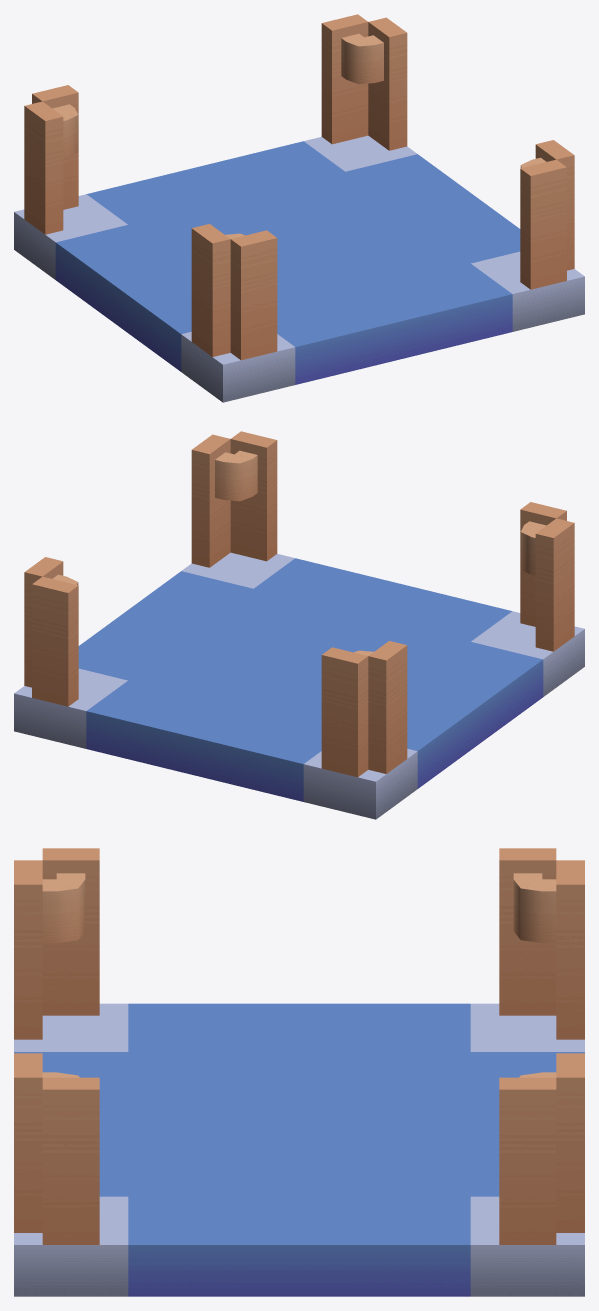
The model's file is queue-crossing.glb.
3 views of the same model, one above another, from view 1: azimuth 30°, elevation 25°; view 2: azimuth 150°, elevation 25°; view 3: azimuth 270°, elevation 25° (orthographic). The views are drawn at different scales.
Visible parts, largest first — view 1: queue-crossing; view 2: queue-crossing; view 3: queue-crossing.
Boxes of the visible parts, x1,y1,x2,y2 form: queue-crossing: [14, 14, 584, 402]; queue-crossing: [14, 431, 584, 819]; queue-crossing: [14, 848, 584, 1296].
Size of the model in its own units: 3 by 1.2 by 3.
1 material, 1 textured.
